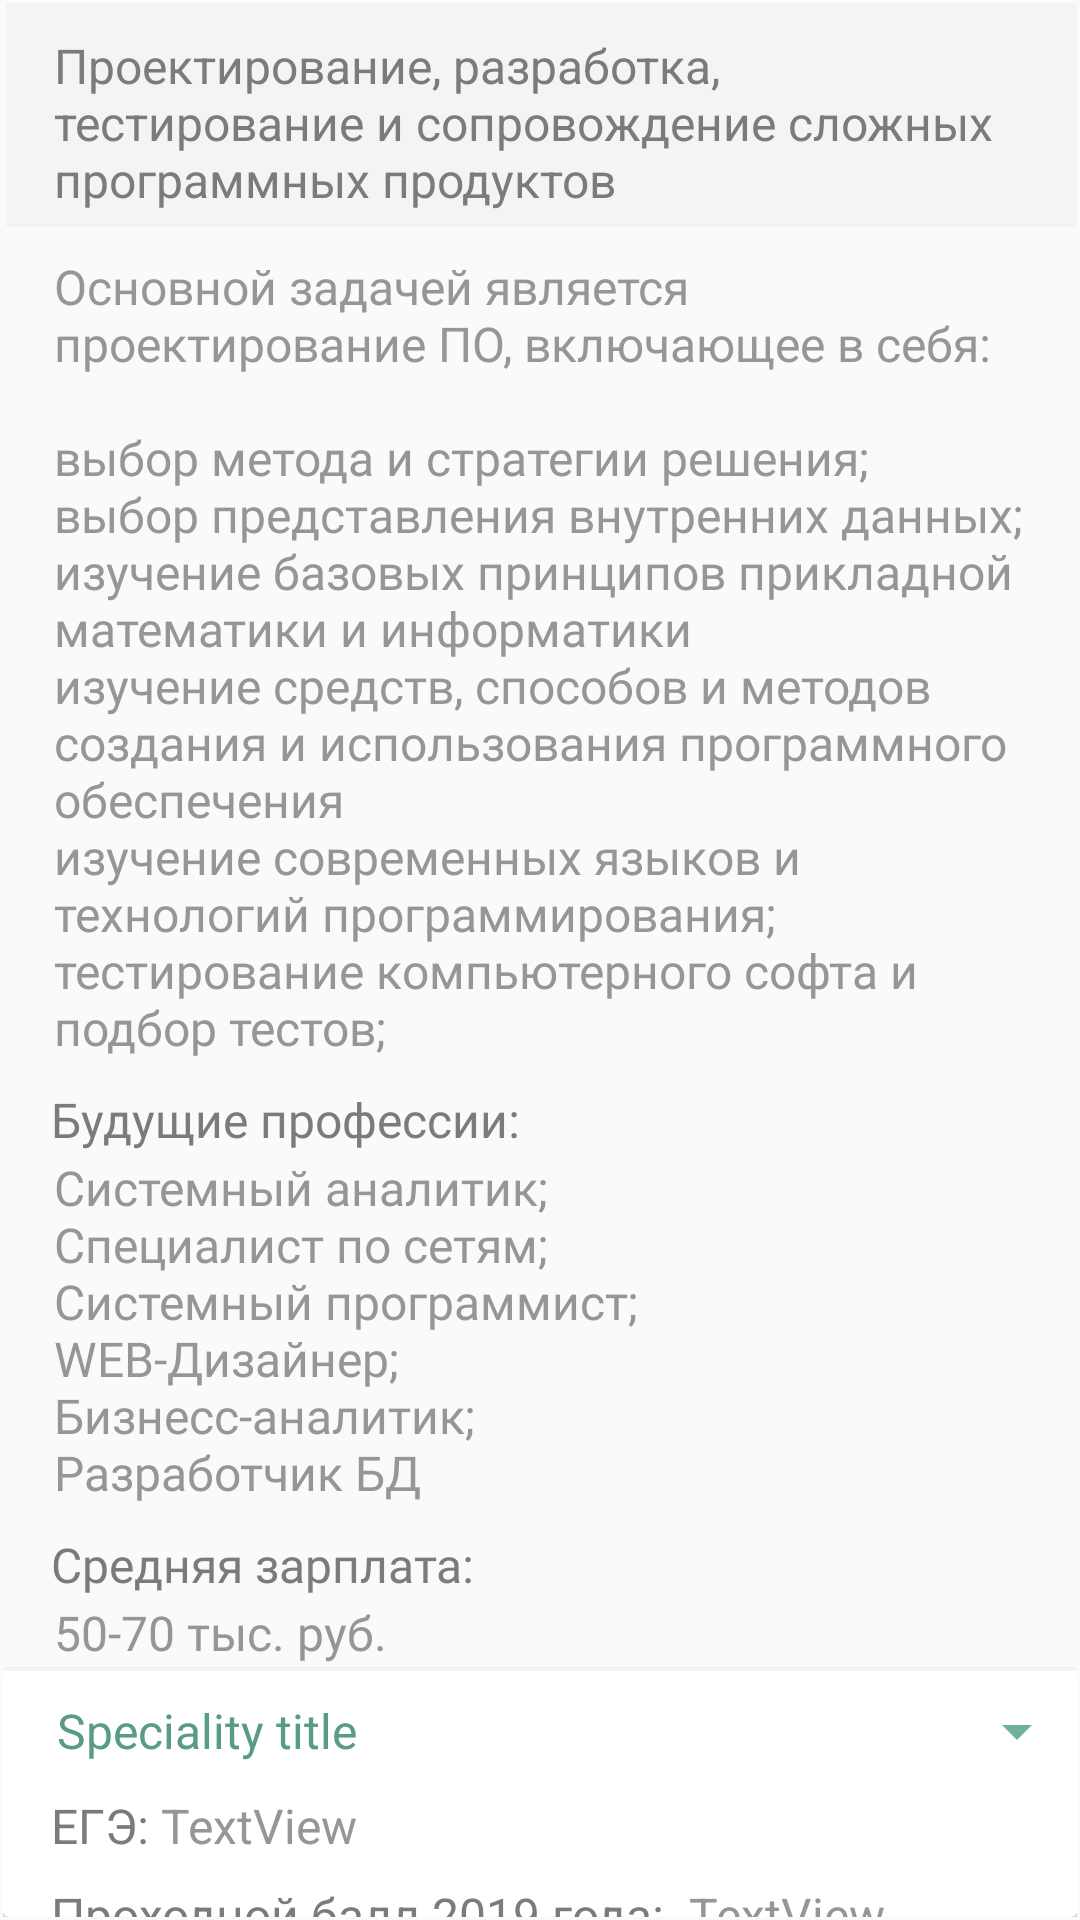

Icon bounding boxes for this 1080px×1920px phone screenshot, format (x1,y1,x2,y2):
arrowdown: (1002,1725,1032,1740)
